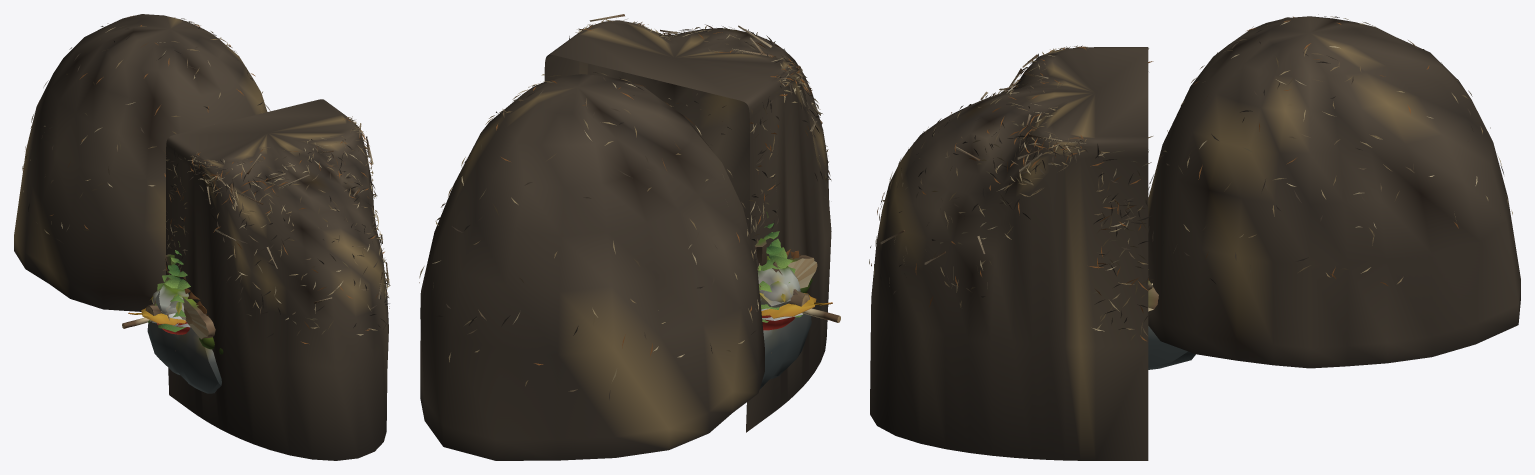
File: forest-kit.glb
The picture shows the model from 3 angles, left to right: view 1: azimuth 30°, elevation 25°; view 2: azimuth 150°, elevation 25°; view 3: azimuth 270°, elevation 25°; orthographic projection. The views are drawn at different scales.
Parts seen in each view (by area): view 1: myrstack, virvelsten, gran, stock, sten-b; view 2: myrstack, virvelsten, gran, sten-b, stock, lovbat; view 3: myrstack, virvelsten.
Part boxes in pixels (<box>): myrstack: <box>14,14,390,460</box>; virvelsten: <box>147,321,221,393</box>; gran: <box>157,241,190,332</box>; stock: <box>159,282,215,339</box>; sten-b: <box>154,280,188,313</box>; myrstack: <box>419,14,831,460</box>; virvelsten: <box>759,313,811,389</box>; gran: <box>757,211,801,322</box>; sten-b: <box>758,266,800,296</box>; stock: <box>759,255,817,292</box>; lovbat: <box>761,293,832,318</box>; myrstack: <box>869,14,1520,460</box>; virvelsten: <box>1148,326,1195,369</box>.
Size of the model in its own units: 8.5 by 11.02 by 17.33.
